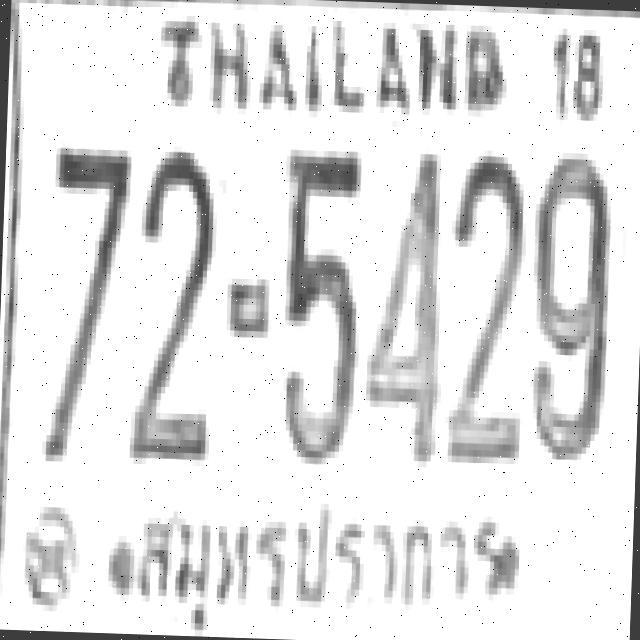2: (127, 157, 217, 460), (130, 148, 216, 444), (444, 152, 526, 461)
4: (360, 142, 446, 458)
5: (276, 142, 362, 458)
7: (39, 141, 129, 457)
9: (523, 148, 613, 458)
SamutPrakan: (132, 475, 509, 640)
